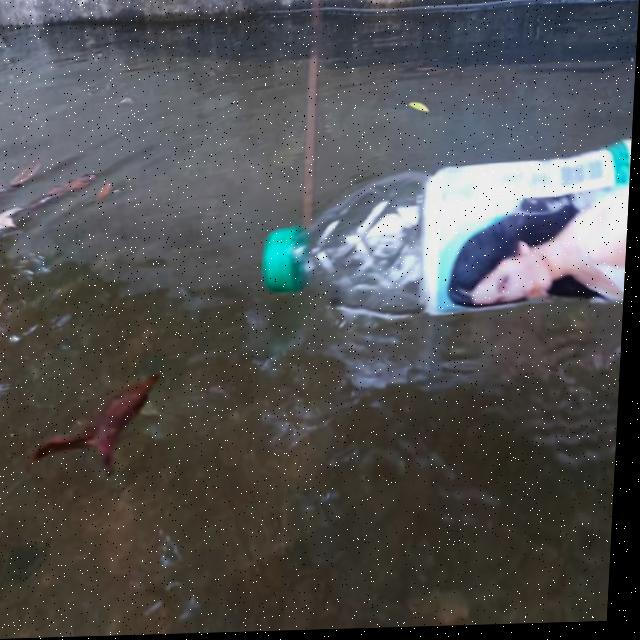waterbottle: (260, 146, 633, 327)
